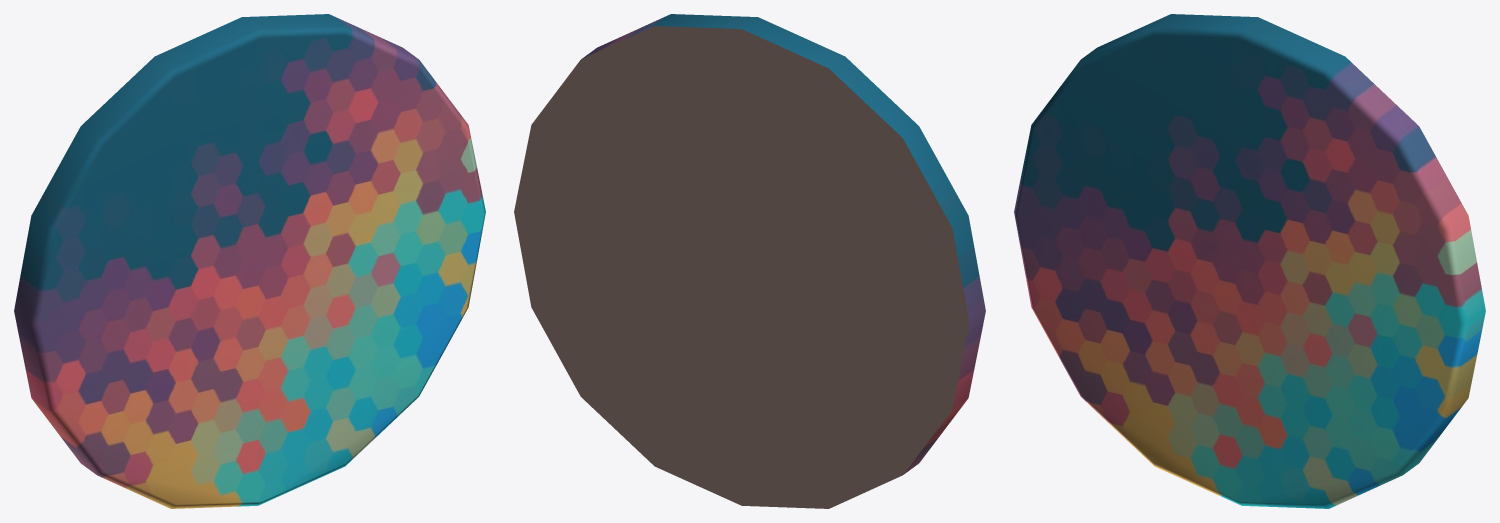
File: picture_020.fbx
3 renders of one model, left to right at view 1: azimuth 30°, elevation 25°; view 2: azimuth 150°, elevation 25°; view 3: azimuth 330°, elevation 25°, orthographic.
Parts seen in each view (by area): view 1: picture_020; view 2: picture_020; view 3: picture_020.
Part boxes in pixels (x1,y1,x2,y2): picture_020: (14, 14, 485, 508); picture_020: (514, 14, 985, 508); picture_020: (1014, 14, 1485, 508).
Size of the model in its own units: 51.94 by 3.9 by 51.94.
